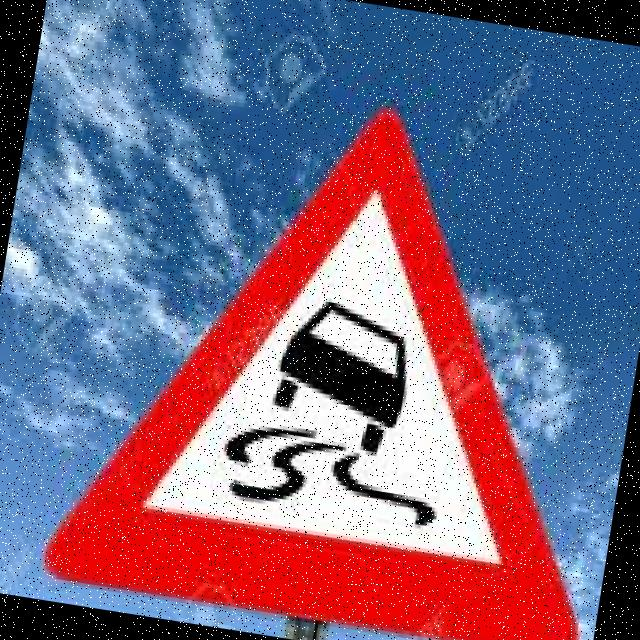road_slippery: (33, 51, 640, 640)
